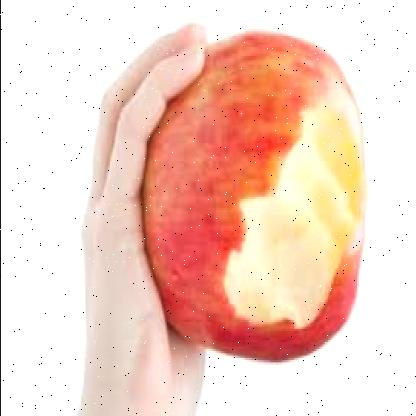damaged_apple: (143, 29, 365, 369)
